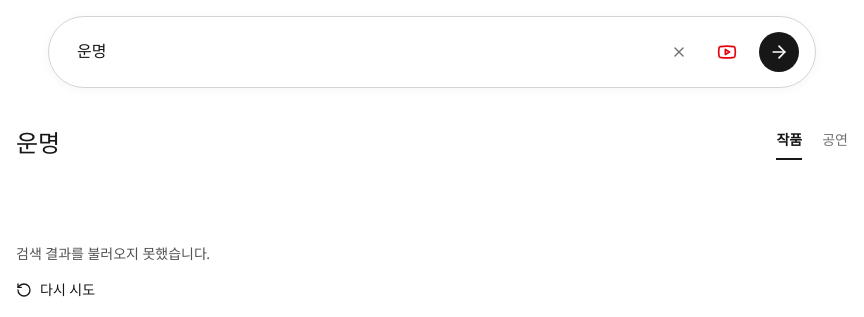
Test: search-first experience › distinguishes failure from no matches and retries
The width and height of the screenshot is (864, 317).
Expected: the message "검색 결과를 불러오지 못했습니다. 다시 시도" is shown, left=16, top=245, right=210, bottom=300
Click the button "다시 시도".
click(56, 290)  # box left=16, top=280, right=95, bottom=300
Wait 150 ms
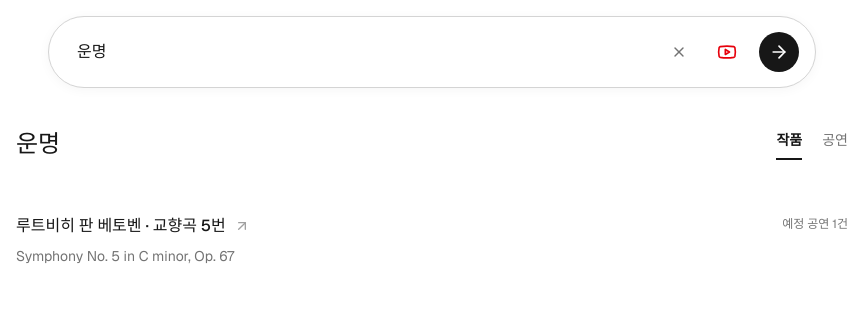
Now the link "루트비히 판 베토벤 · 교향곡 5번" is shown, box left=16, top=212, right=250, bottom=240
